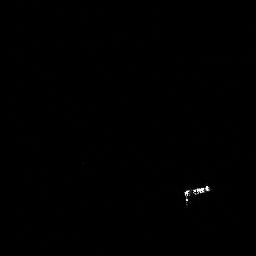ship: (183, 184, 209, 197)
